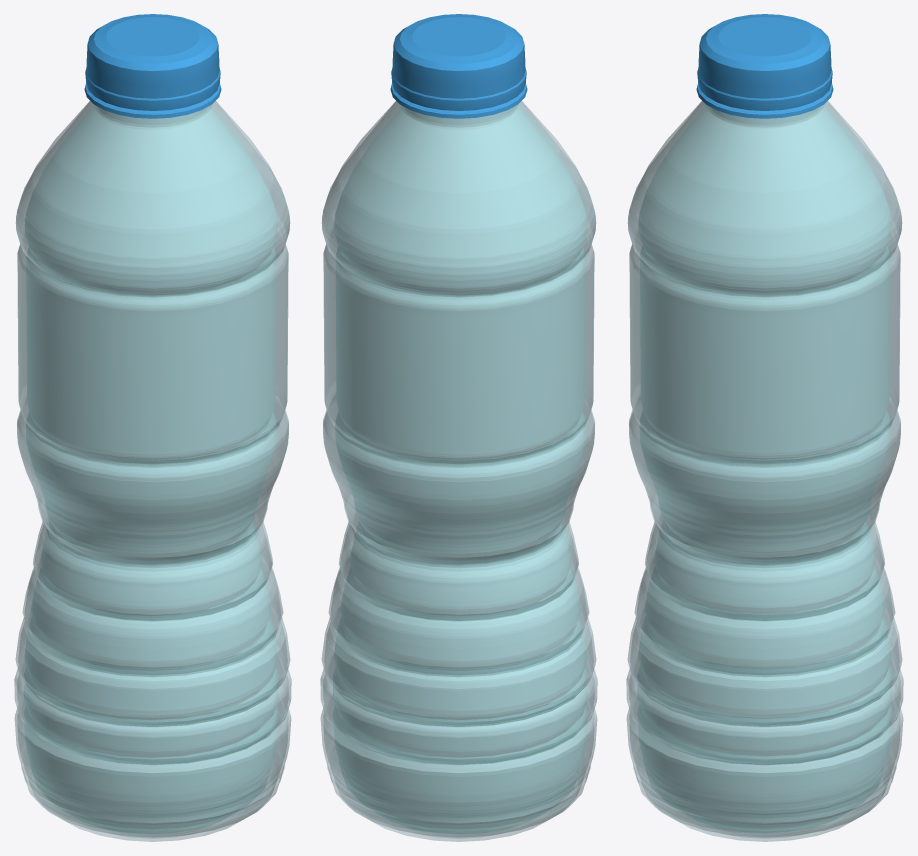
The model's file is water.fbx.
3 renders of one model, left to right at view 1: azimuth 30°, elevation 25°; view 2: azimuth 150°, elevation 25°; view 3: azimuth 270°, elevation 25°, orthographic.
Parts seen in each view (by area): view 1: water; view 2: water; view 3: water.
Part boxes in pixels (x1=…): water: x1=14, y1=14, x2=291, y2=841; water: x1=320, y1=14, x2=597, y2=841; water: x1=626, y1=14, x2=903, y2=841.
Size of the model in its own units: 101 by 310 by 101.
